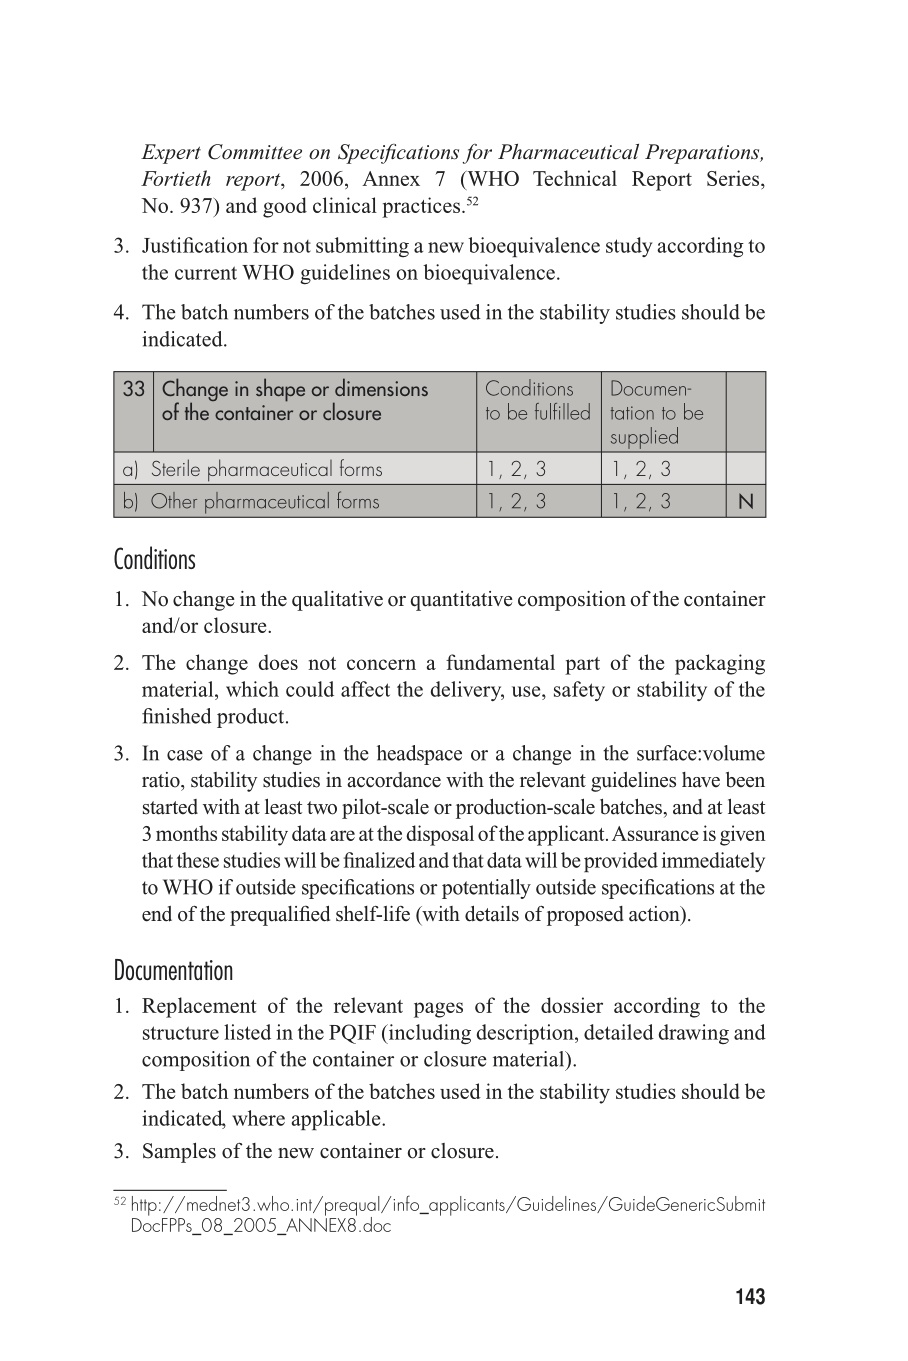merged_cells: (111, 370, 767, 519)
